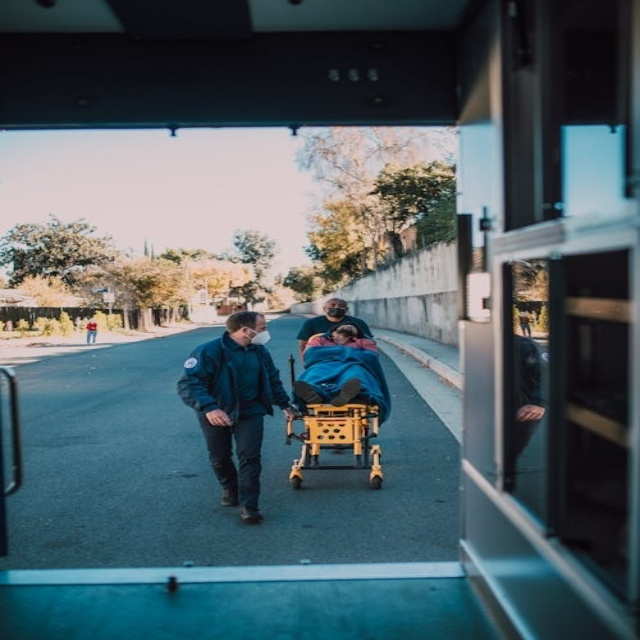Mascara: (246, 328, 271, 345), (326, 307, 347, 317)
Sin_guantes: (205, 409, 233, 428)
